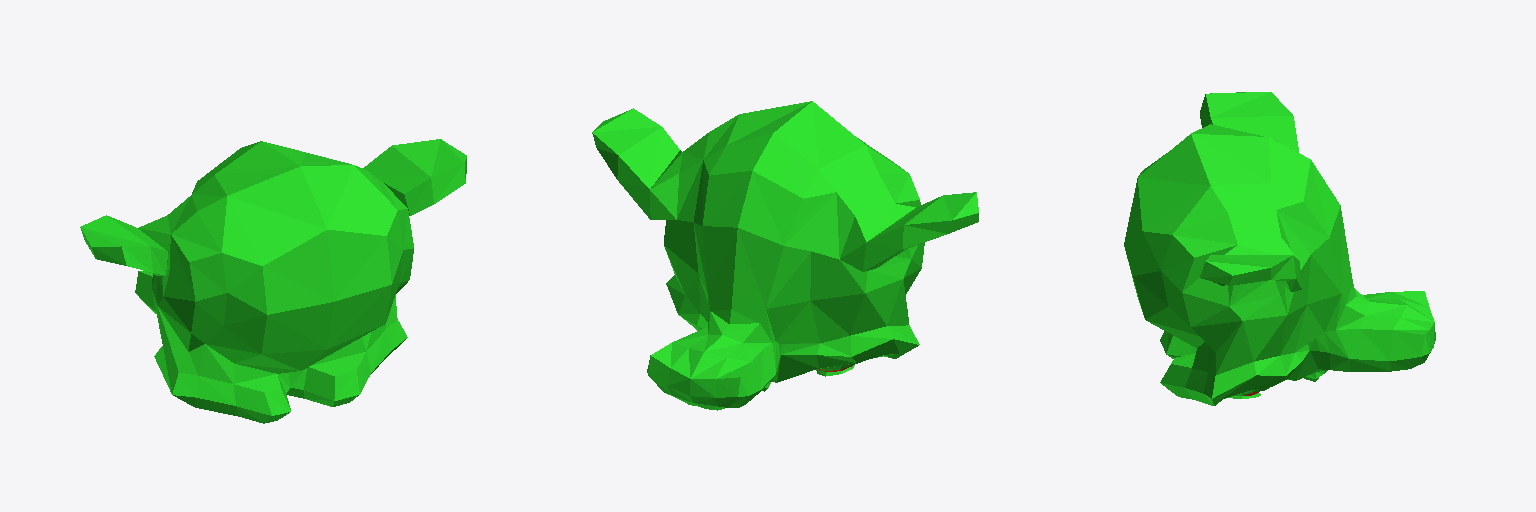
The model's file is monkey.obj.
3 views of the same model, side by side, from view 1: azimuth 30°, elevation 25°; view 2: azimuth 150°, elevation 25°; view 3: azimuth 270°, elevation 25° (orthographic).
Bounding box in the file's own units: 27.34 × 17.03 × 19.69.